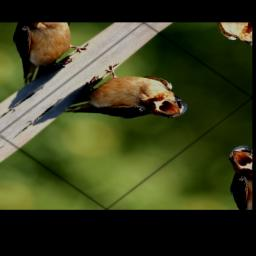Swallow: (54, 51, 199, 157)
